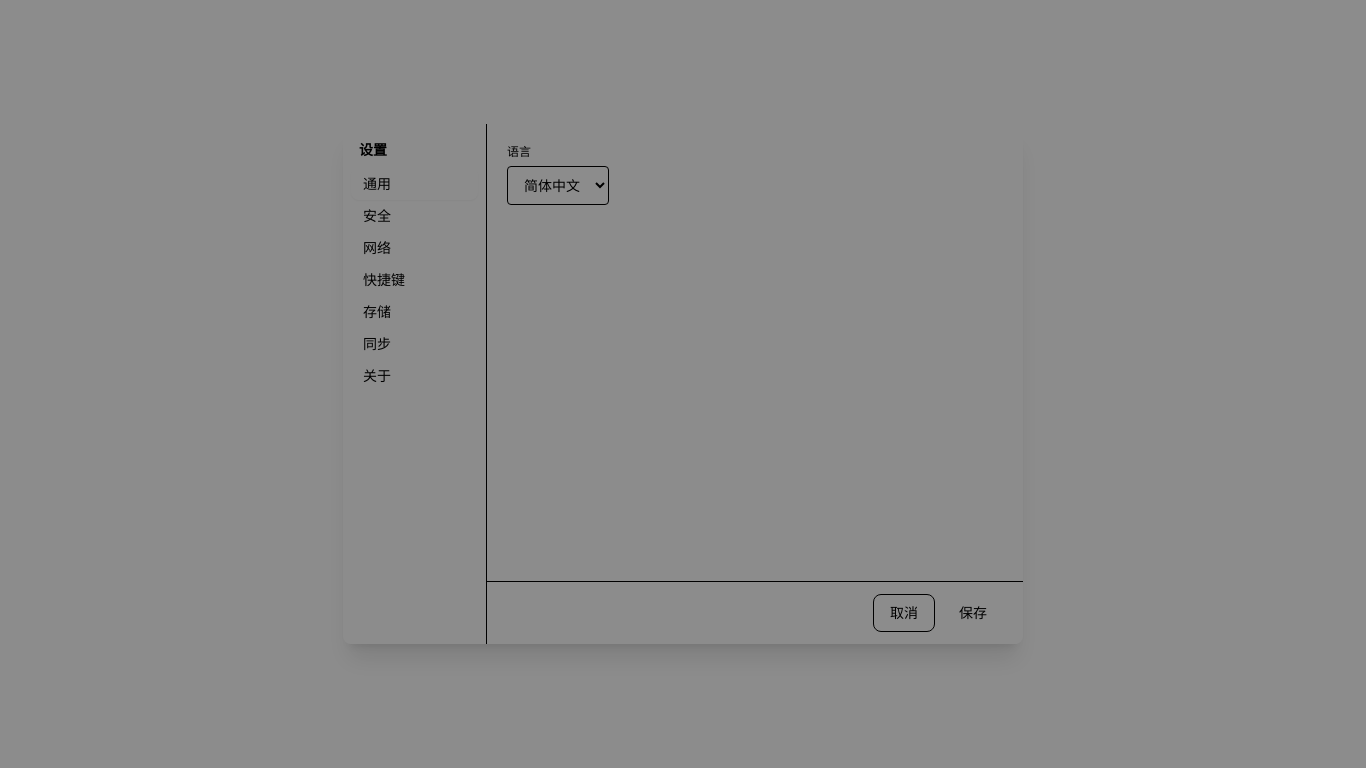
Scenario: SettingsDialog 快捷键自定义 › 展示默认组合并支持捕获新组合后即时保存
Click the button "快捷键" at (414, 280), box [351,264,478,296]
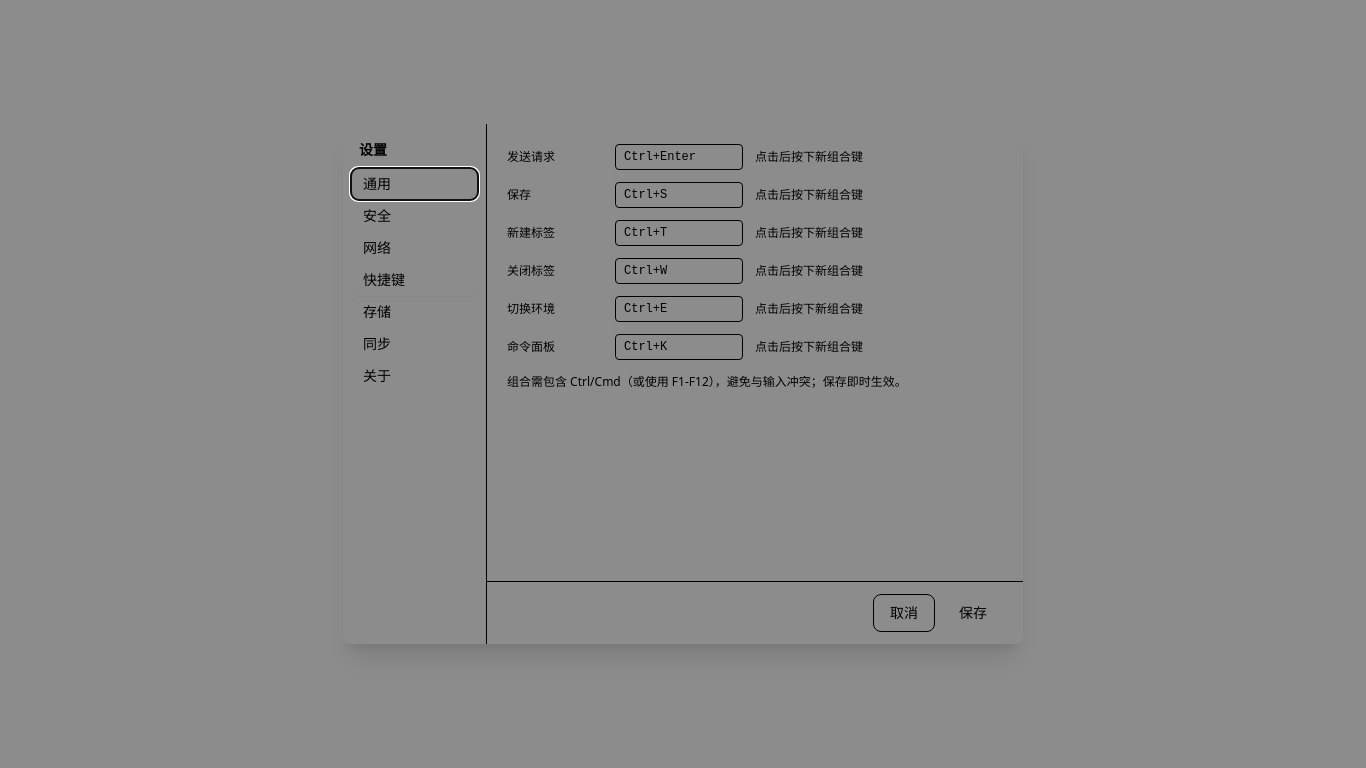
Check: the field with test id "hotkey-palette" holds "Ctrl+K"
Press p in the field with test id "hotkey-palette", box [615,334,743,360]
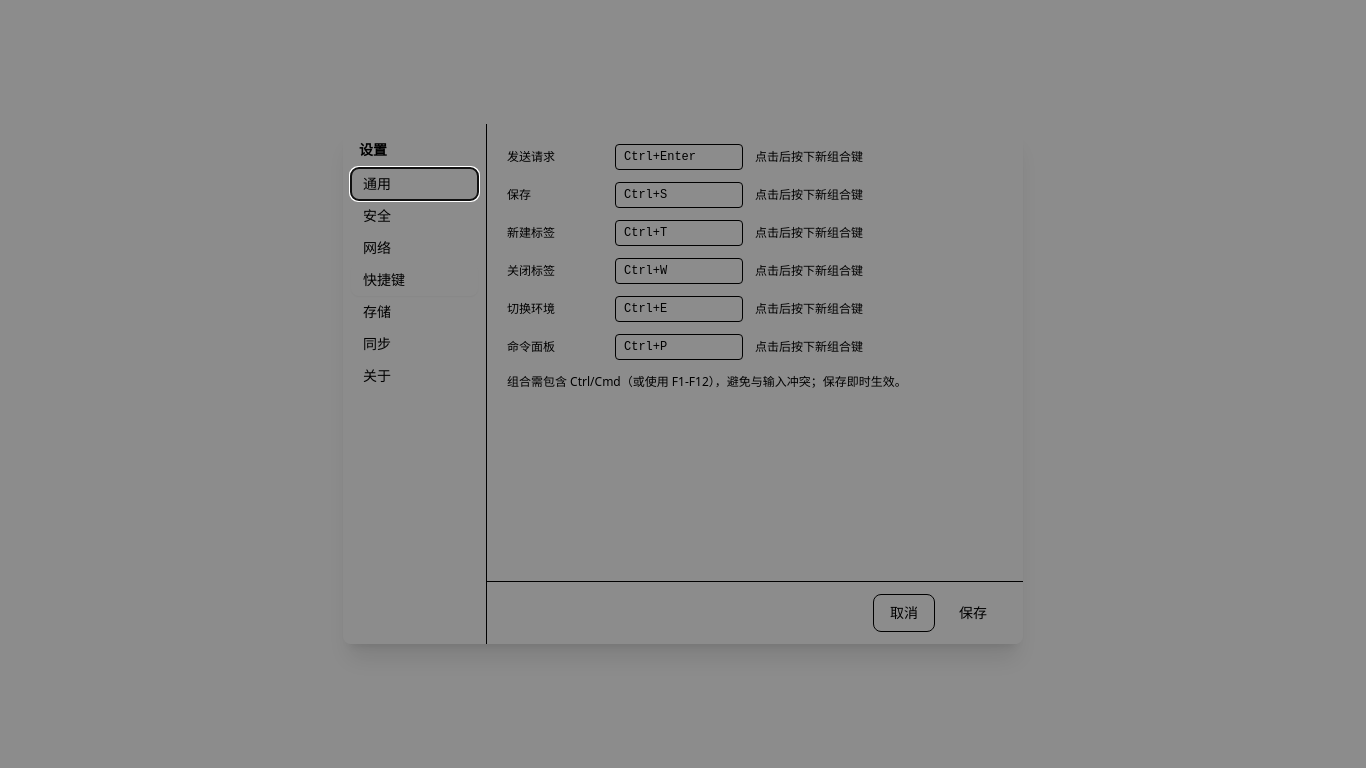
Check: the field with test id "hotkey-palette" holds "Ctrl+P", box [615,334,743,360]
